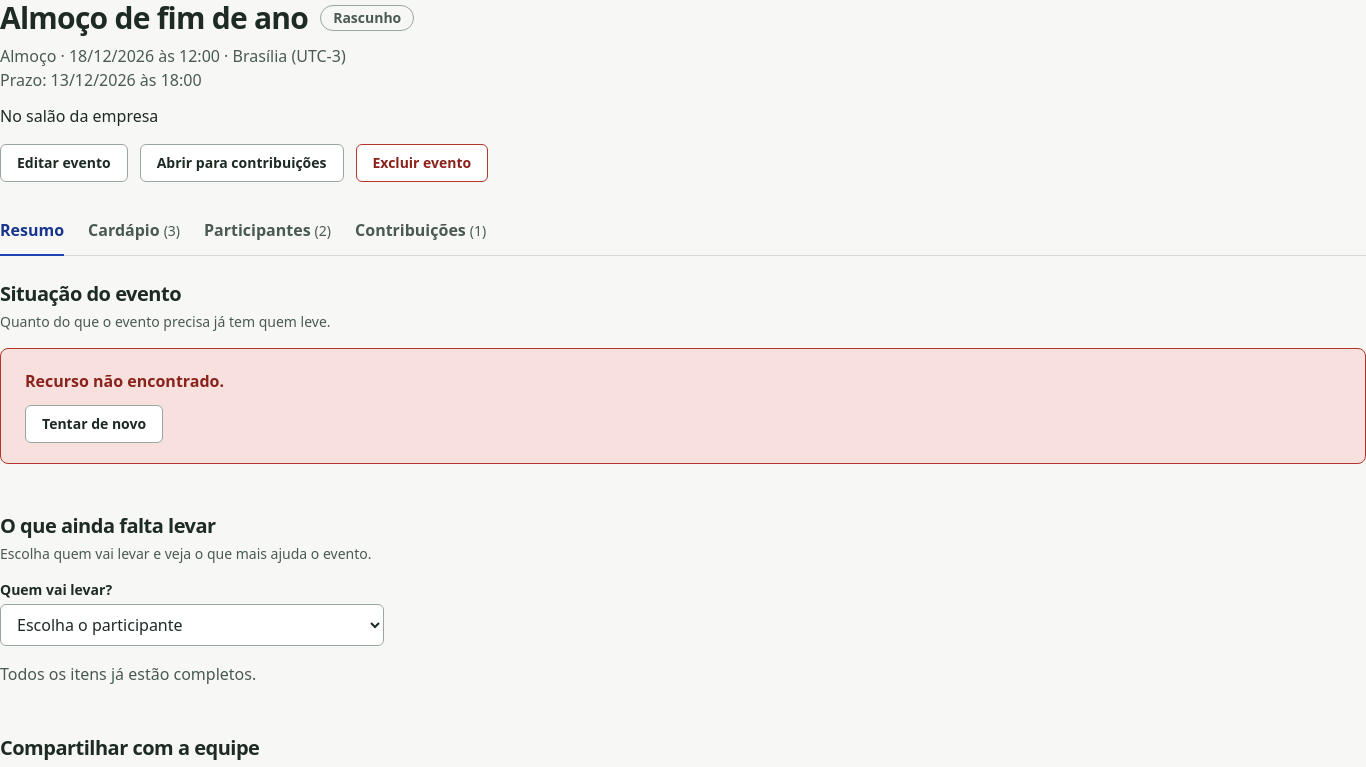
Scenario: EventPage: edit and delete buttons › keeps the dialog open and shows the reason when the API refuses to delete
What coordinates should you click on to do the following:
click the button "Excluir evento"
I would click on:
 (422, 163)
Its box is [356, 144, 488, 182].
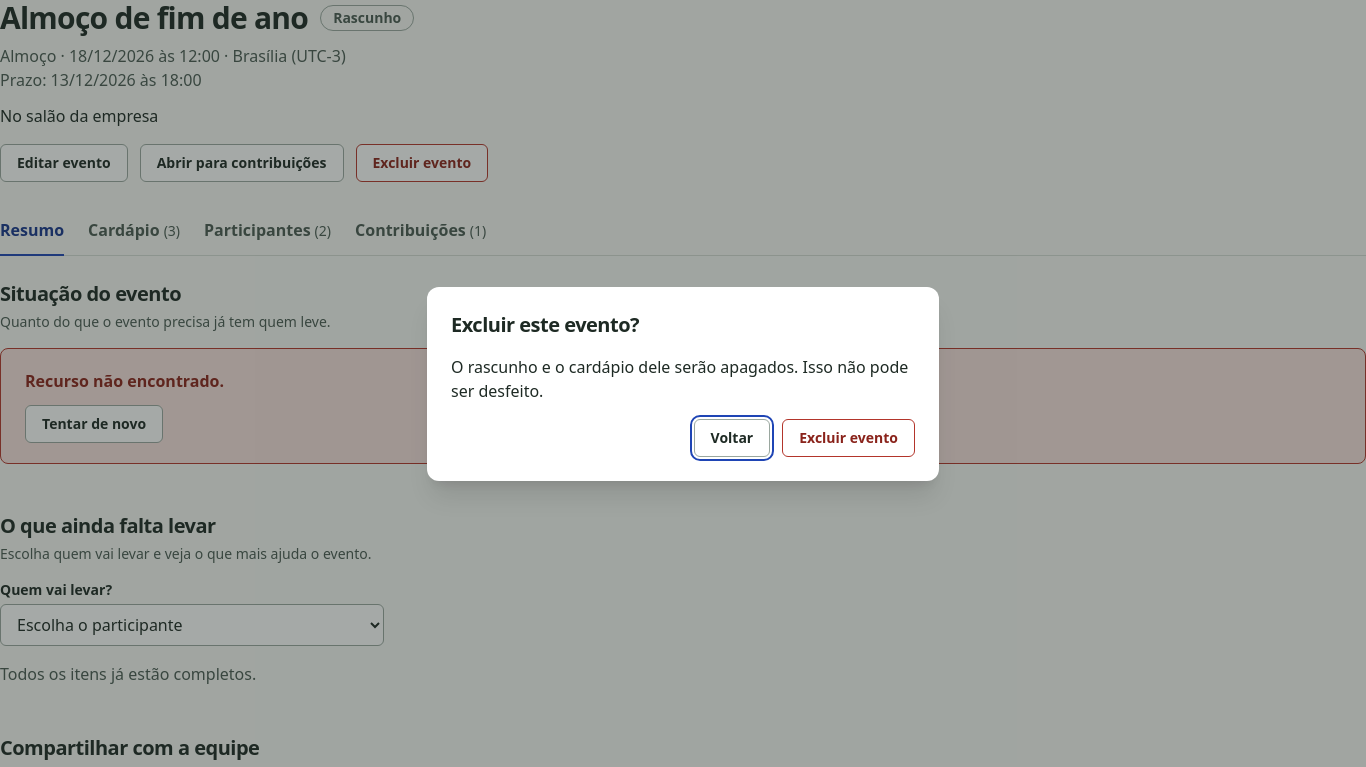
What coordinates should you click on to do the following:
click the button "Excluir evento"
I would click on:
 (849, 438)
Its box is [782, 419, 915, 457].
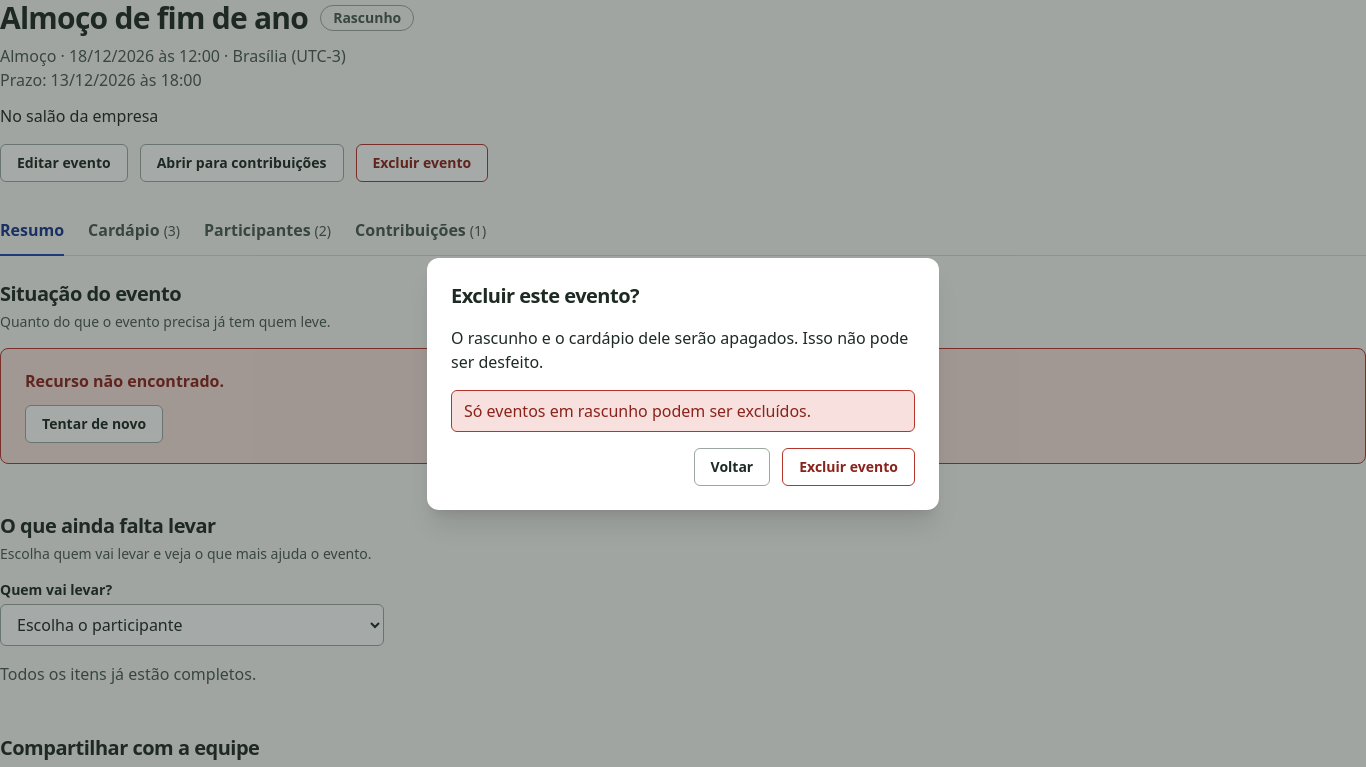
Expected: the message reads "Só eventos em rascunho podem ser excluídos.", [464, 400, 811, 422]
